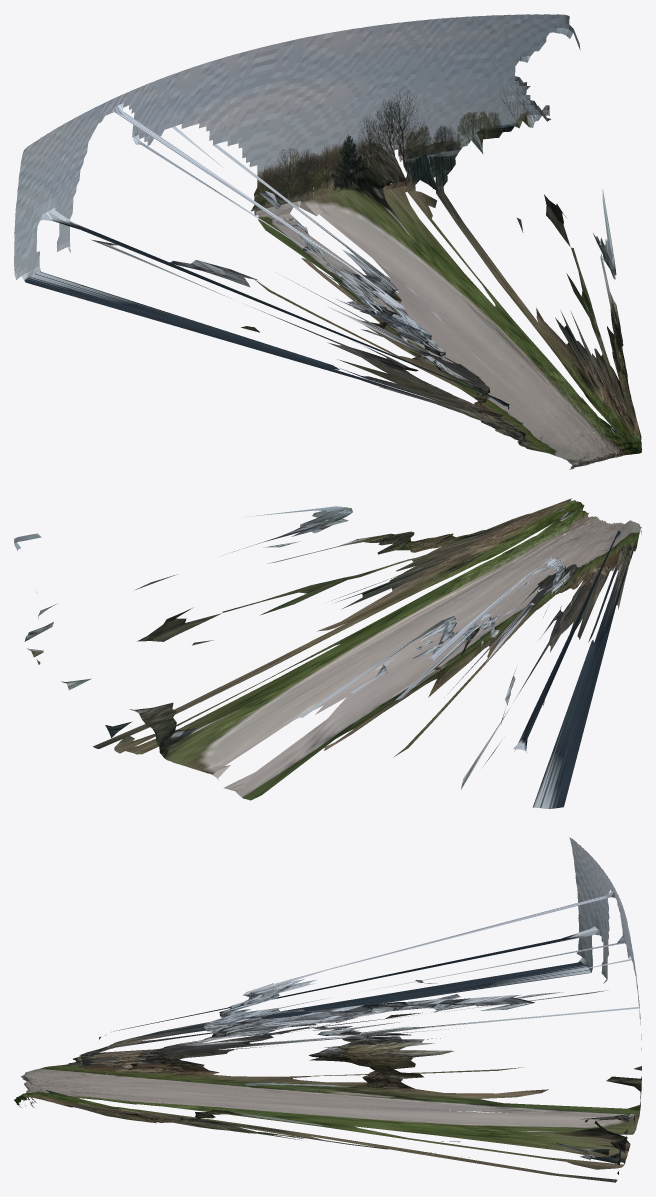
3 views of the same model, one above another, from view 1: azimuth 30°, elevation 25°; view 2: azimuth 150°, elevation 25°; view 3: azimuth 270°, elevation 25° (orthographic). The views are drawn at different scales.
Parts seen in each view (by area): view 1: defaultobject; view 2: defaultobject; view 3: defaultobject.
Part boxes in pixels (x1,y1,x2,y2): defaultobject: (14, 14, 641, 469); defaultobject: (14, 498, 641, 808); defaultobject: (14, 837, 641, 1182).
Size of the model in its own units: 40.48 by 12.86 by 44.77.
1 material, 1 textured.
